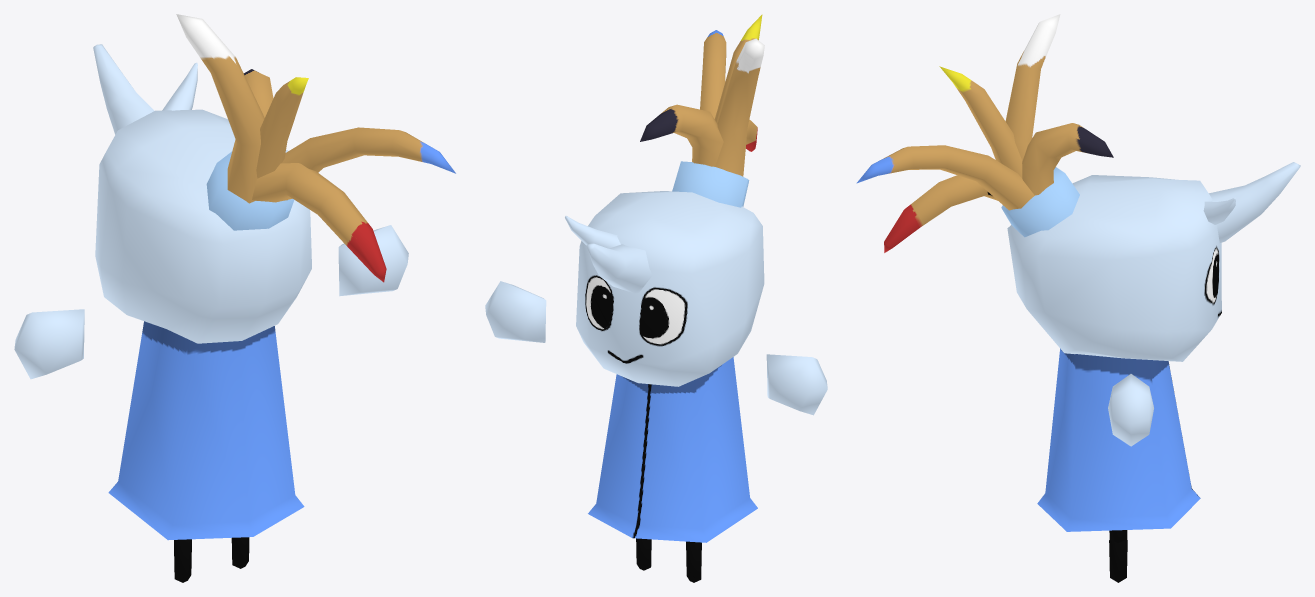
The model's file is 3DSketch.glb.
3 views of the same model, side by side, from view 1: azimuth 30°, elevation 25°; view 2: azimuth 150°, elevation 25°; view 3: azimuth 270°, elevation 25° (orthographic). The views are drawn at different scales.
Parts seen in each view (by area): view 1: Head, Body, Bristle2, Bristle5, Bristle4, HandL, HandR, BrushBase, Bristle3, Hair1, Hair2, Bristle1 (+1 smaller); view 2: Head, Body, Bristle2, HandR, HandL, Bristle1, BrushBase, Hair1, Bristle4, Hair2, Bristle3, LowerLegL (+1 smaller); view 3: Head, Body, Bristle4, Bristle2, Bristle1, Bristle5, Hair1, Bristle3, BrushBase, HandR, LowerLegR, Hair2.
Boxes of the visible parts, x1=… form: Head: x1=95, y1=109, x2=311, y2=343; Body: x1=108, y1=321, x2=304, y2=540; Bristle2: x1=176, y1=14, x2=264, y2=203; Bristle5: x1=252, y1=163, x2=386, y2=282; Bristle4: x1=282, y1=127, x2=455, y2=200; HandL: x1=14, y1=309, x2=84, y2=379; HandR: x1=338, y1=225, x2=408, y2=296; BrushBase: x1=206, y1=151, x2=294, y2=230; Bristle3: x1=256, y1=77, x2=308, y2=178; Hair1: x1=93, y1=44, x2=154, y2=134; Hair2: x1=162, y1=62, x2=197, y2=110; Bristle1: x1=244, y1=69, x2=273, y2=117; Head: x1=576, y1=191, x2=764, y2=386; Body: x1=588, y1=357, x2=757, y2=542; Bristle2: x1=715, y1=38, x2=764, y2=176; HandR: x1=485, y1=281, x2=546, y2=342; HandL: x1=766, y1=354, x2=827, y2=415; Bristle1: x1=640, y1=104, x2=723, y2=166; BrushBase: x1=672, y1=161, x2=749, y2=207; Hair1: x1=586, y1=243, x2=652, y2=293; Bristle4: x1=700, y1=30, x2=726, y2=118; Hair2: x1=565, y1=216, x2=620, y2=248; Bristle3: x1=714, y1=14, x2=762, y2=122; LowerLegL: x1=686, y1=541, x2=701, y2=582; Head: x1=1007, y1=175, x2=1221, y2=361; Body: x1=1037, y1=348, x2=1200, y2=531; Bristle4: x1=856, y1=145, x2=1034, y2=210; Bristle2: x1=1005, y1=14, x2=1060, y2=160; Bristle1: x1=1022, y1=123, x2=1113, y2=195; Bristle5: x1=884, y1=175, x2=997, y2=252; Hair1: x1=1209, y1=162, x2=1300, y2=242; Bristle3: x1=939, y1=66, x2=1022, y2=177; BrushBase: x1=1001, y1=167, x2=1079, y2=237; HandR: x1=1108, y1=374, x2=1153, y2=446; LowerLegR: x1=1109, y1=539, x2=1127, y2=582; Hair2: x1=1203, y1=197, x2=1235, y2=224.
Size of the model in its own units: 2.52 by 3.69 by 2.82.
Materials: 1 (1 with a texture image).
